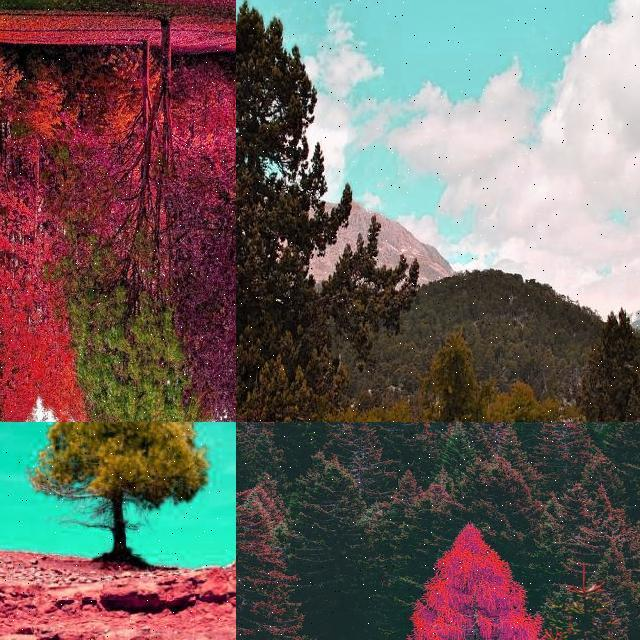tree: (66, 22, 206, 422), (236, 0, 334, 422), (37, 422, 213, 572), (386, 515, 553, 640), (0, 46, 50, 422), (0, 120, 60, 422), (575, 304, 640, 422), (422, 324, 484, 422), (0, 238, 20, 422), (486, 378, 550, 422), (534, 422, 570, 446), (396, 466, 420, 502), (578, 422, 602, 442), (319, 422, 353, 434), (236, 422, 250, 444), (236, 422, 248, 442)
